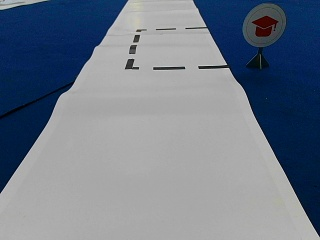school: (241, 3, 286, 46)
